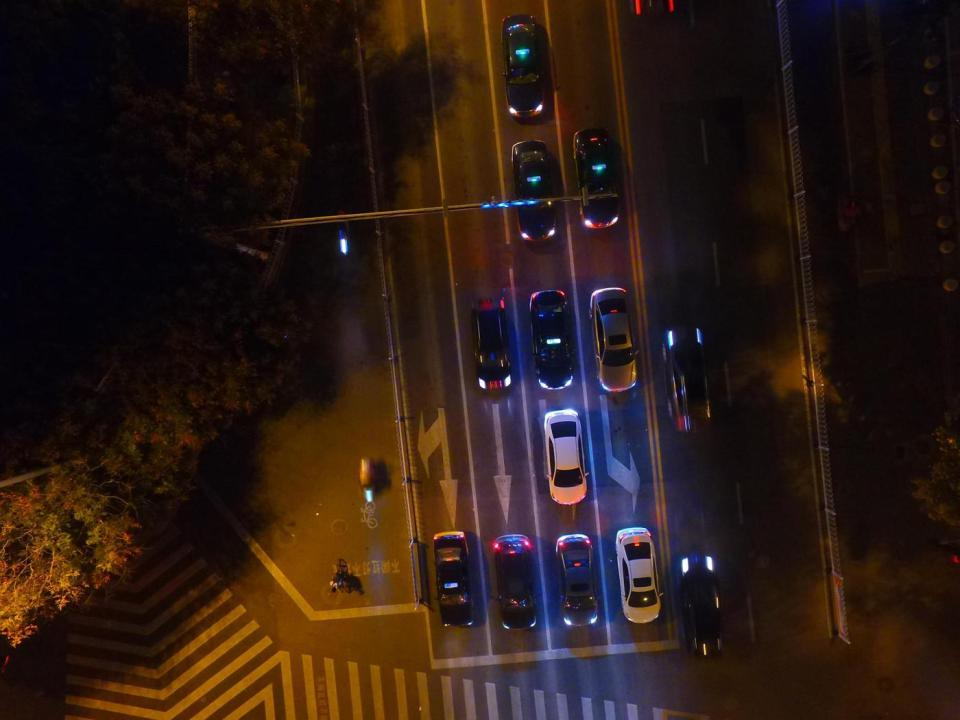car: (496, 18, 547, 116), (572, 128, 620, 231), (666, 330, 712, 437), (591, 287, 636, 392), (679, 558, 725, 658), (614, 528, 662, 623), (530, 291, 575, 391), (512, 141, 556, 239), (430, 533, 474, 628), (556, 535, 601, 627), (494, 536, 538, 630), (543, 411, 586, 505), (471, 296, 512, 392)
